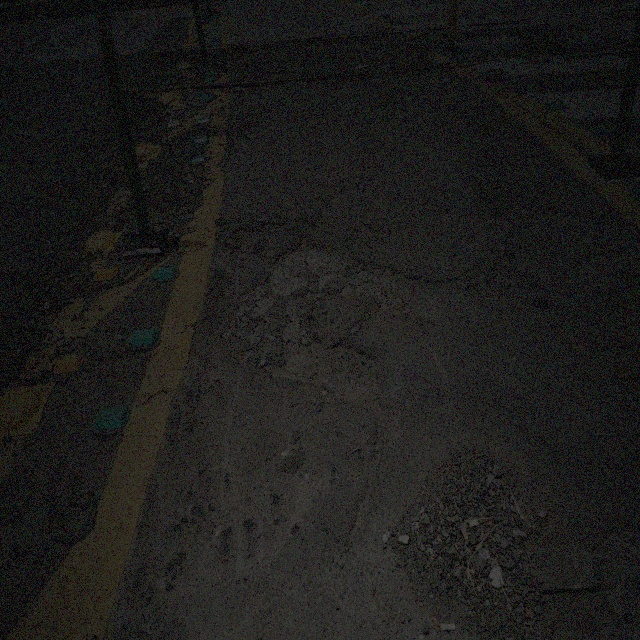pothole: (207, 449, 330, 577), (265, 335, 380, 420), (375, 260, 441, 338), (464, 236, 527, 310), (265, 241, 355, 292), (356, 220, 376, 246), (260, 220, 290, 234), (547, 206, 566, 220), (233, 227, 251, 241)
